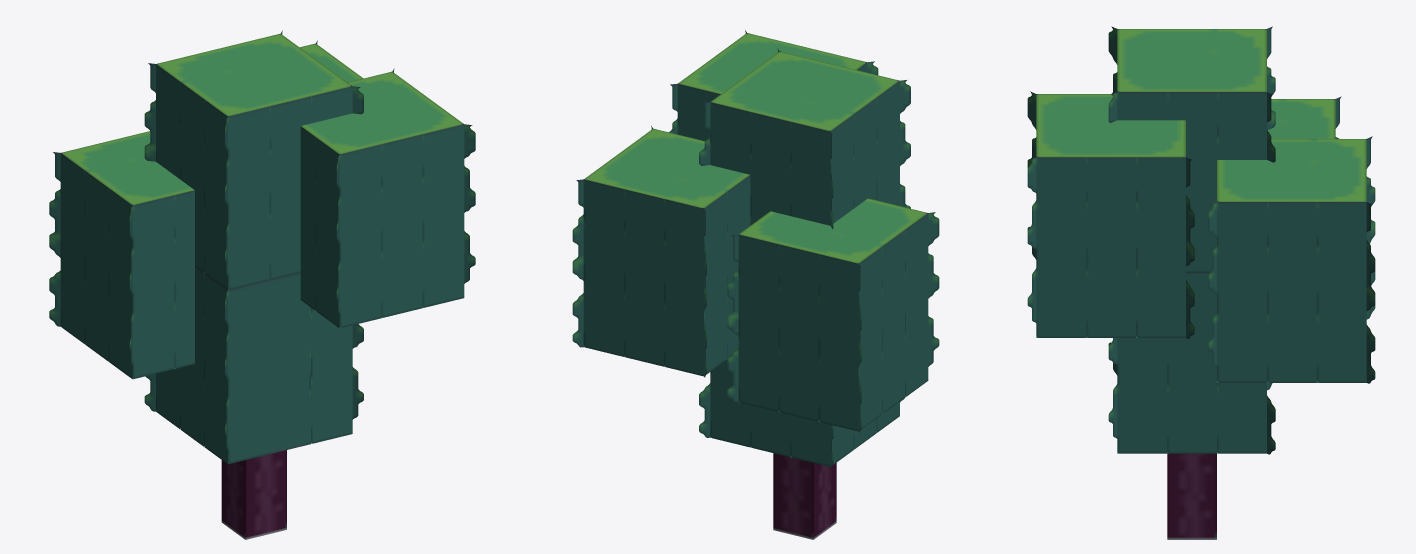
The model's file is tree4.fbx.
3 views of the same model, side by side, from view 1: azimuth 30°, elevation 25°; view 2: azimuth 150°, elevation 25°; view 3: azimuth 270°, elevation 25° (orthographic). The views are drawn at different scales.
Visible parts, largest first — view 1: Cube.033; view 2: Cube.033; view 3: Cube.033.
Boxes of the visible parts, bbox=[...] form: Cube.033: bbox=[49, 30, 475, 539]; Cube.033: bbox=[572, 30, 939, 539]; Cube.033: bbox=[1027, 26, 1375, 539].
Size of the model in its own units: 198 by 259 by 201.
